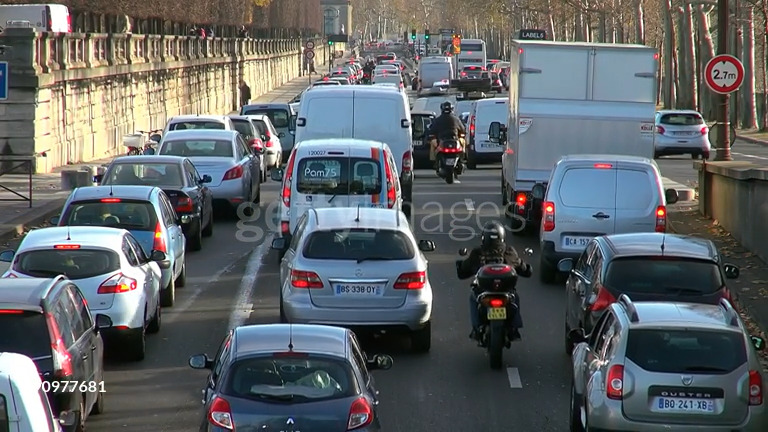car_number: (655, 397, 714, 412), (334, 284, 381, 295)
